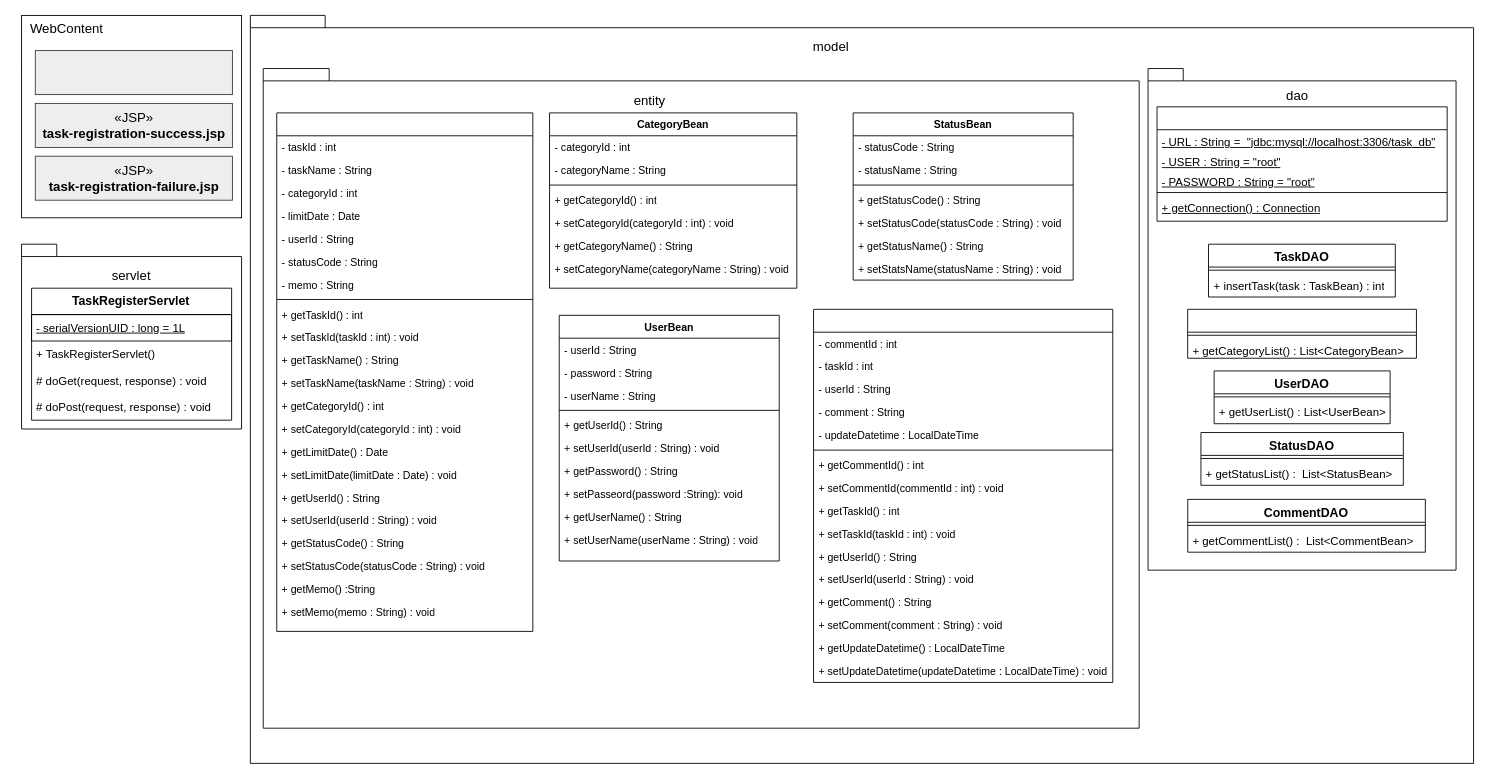
The diagram is 1498 pixels wide and 779 high, and some of its shapes have lost their labels. The shapes that lost their labels are listed below. From the top down, each one's box as (x1, y1, x2, y2) in pixels, then its label:
(34, 50, 232, 95): «JSP» task-registration.jsp
(1156, 106, 1447, 221): ConnectionManager
(1187, 308, 1416, 358): CategoryDAO
(276, 112, 533, 631): TaskBean
(813, 308, 1113, 682): CommentBean
